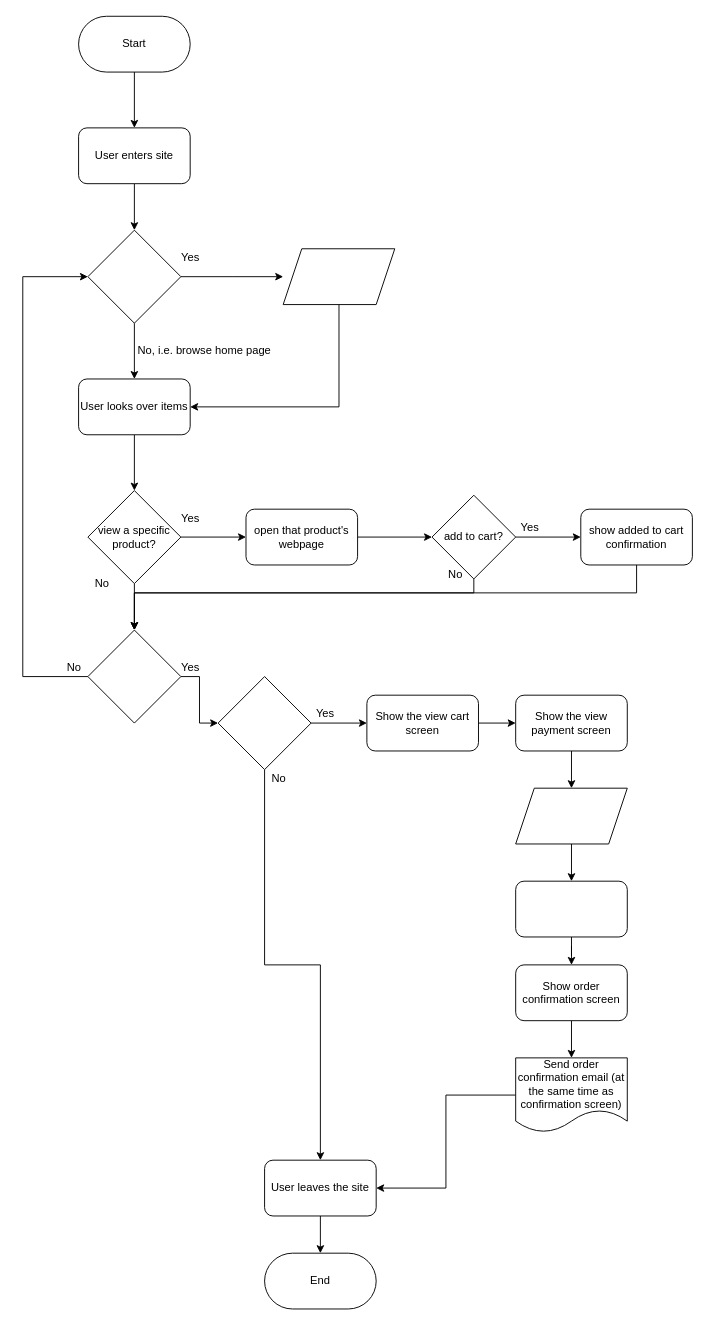
The diagram is 709 pixels wide and 1325 high, and some of its shapes have lost their labels. Here are the shapes that lost their labels. From the top down, the box of each, then its label:
(87, 229, 181, 323): search for a product?
(282, 248, 395, 305): User inputs search (and the search is processed)
(87, 629, 181, 723): continue shopping?
(217, 676, 311, 770): Checkout?
(515, 787, 627, 844): User inputs their payment information
(515, 880, 627, 937): Payment processed
